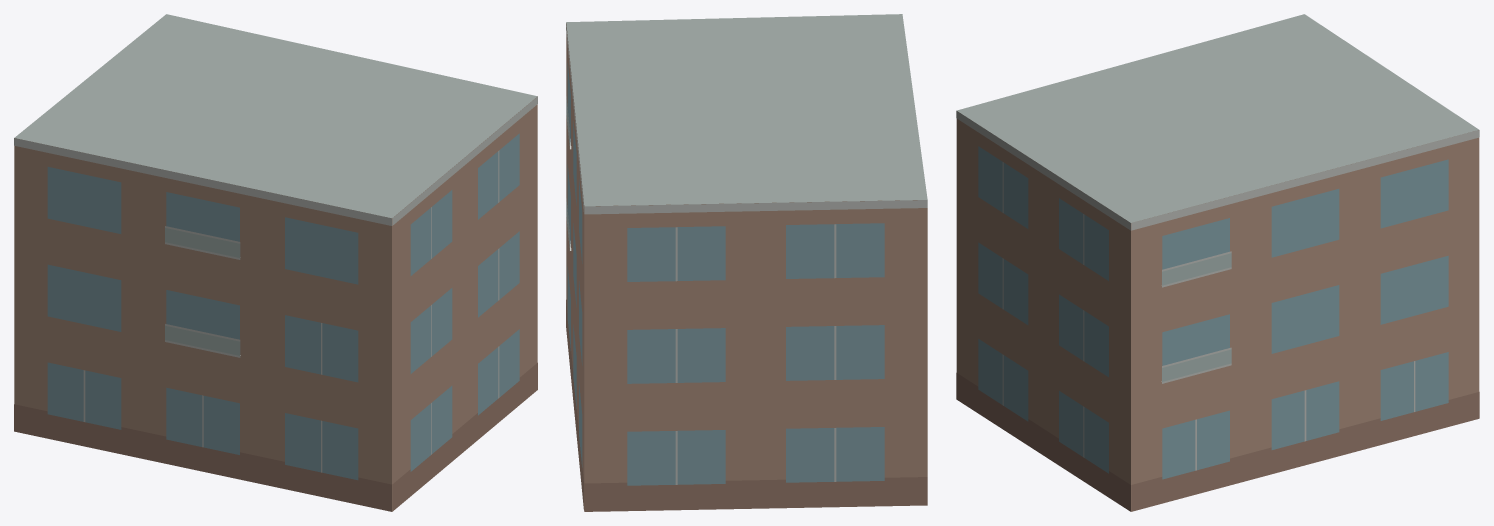
File: survey-upis-32606087.glb
3 renders of one model, left to right at view 1: azimuth 30°, elevation 25°; view 2: azimuth 150°, elevation 25°; view 3: azimuth 270°, elevation 25°, orthographic. The views are drawn at different scales.
Parts seen in each view (by area): view 1: survey-upis-32606087.tmp; view 2: survey-upis-32606087.tmp; view 3: survey-upis-32606087.tmp.
Boxes of the visible parts, x1=… form: survey-upis-32606087.tmp: x1=14, y1=14, x2=537, y2=511; survey-upis-32606087.tmp: x1=566, y1=14, x2=927, y2=511; survey-upis-32606087.tmp: x1=956, y1=14, x2=1479, y2=511.
Bounding box in the file's own units: 14.21 × 9.15 × 15.02.
